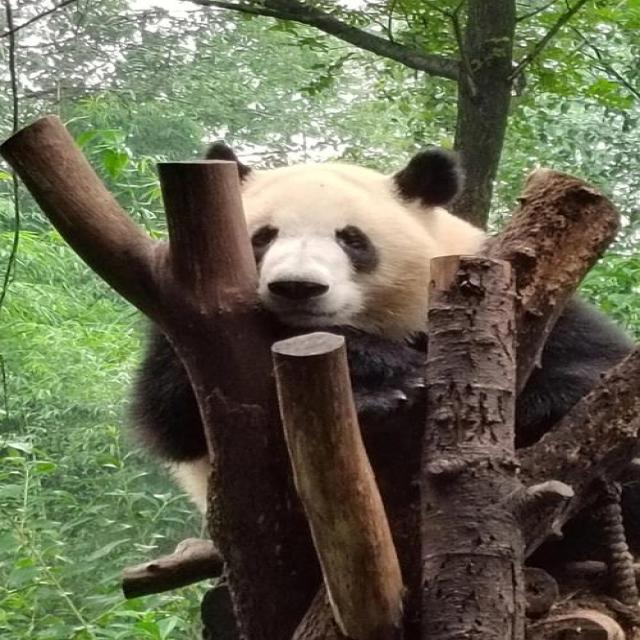panda: (146, 126, 608, 541)
